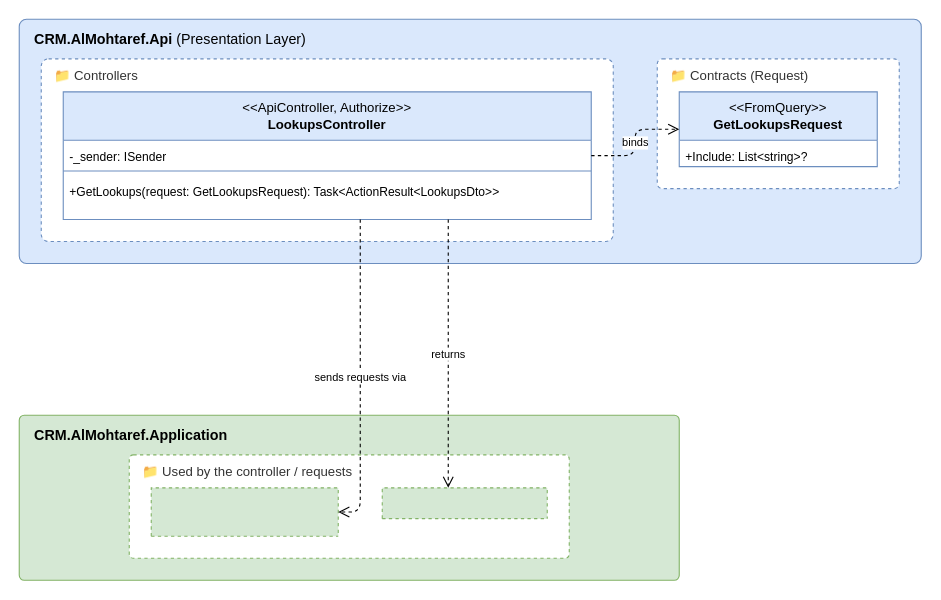
This 941x600 diagram has some shape labels left out. Each missing label, with the centre of its shape:
"<<interface (MediatR)>> ISender" belongs at point (244, 511).
"LookupsDto" belongs at point (464, 503).
